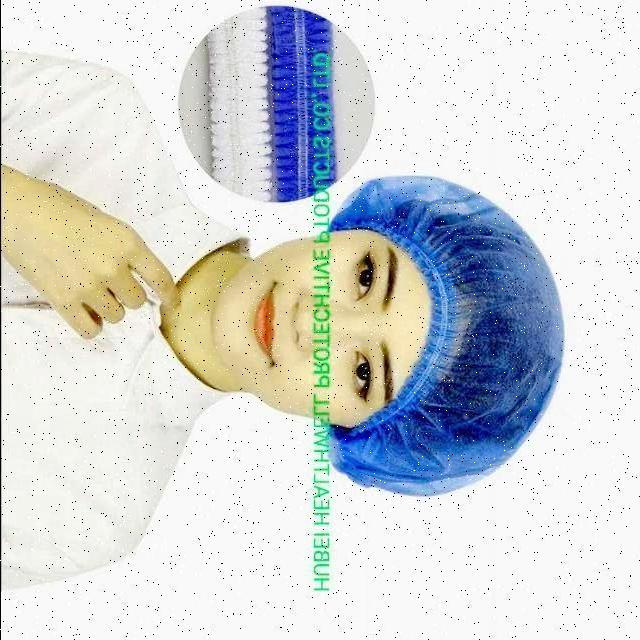no_apron: (1, 140, 172, 343)
no_hairnet: (230, 254, 334, 388)
